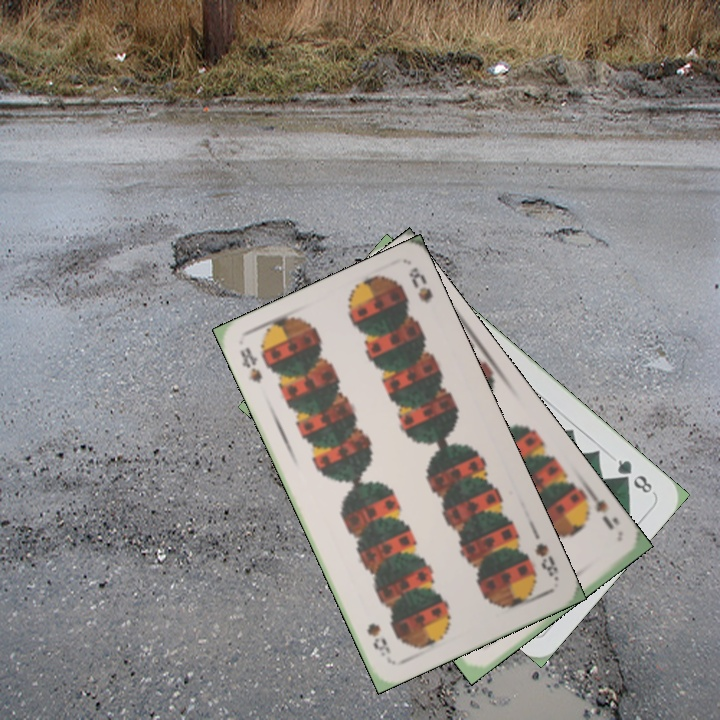G8: (613, 455, 655, 497)
S8: (530, 539, 561, 584), (236, 343, 265, 386)
S9: (576, 486, 622, 533)
